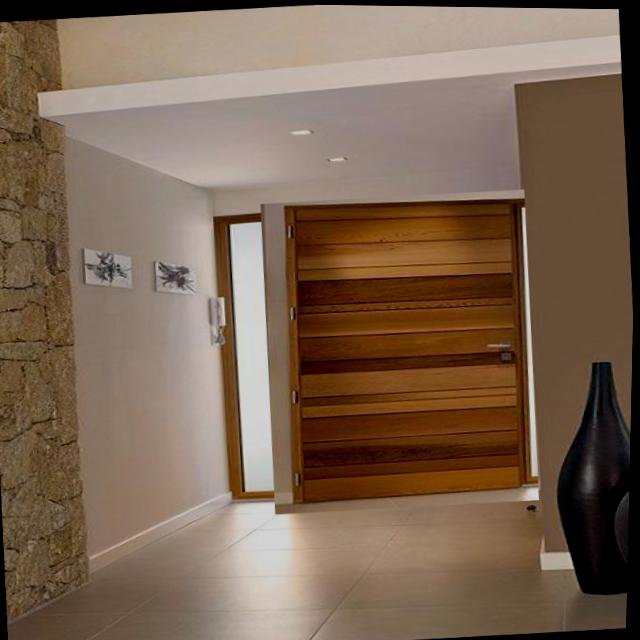close: (256, 184, 547, 517)
